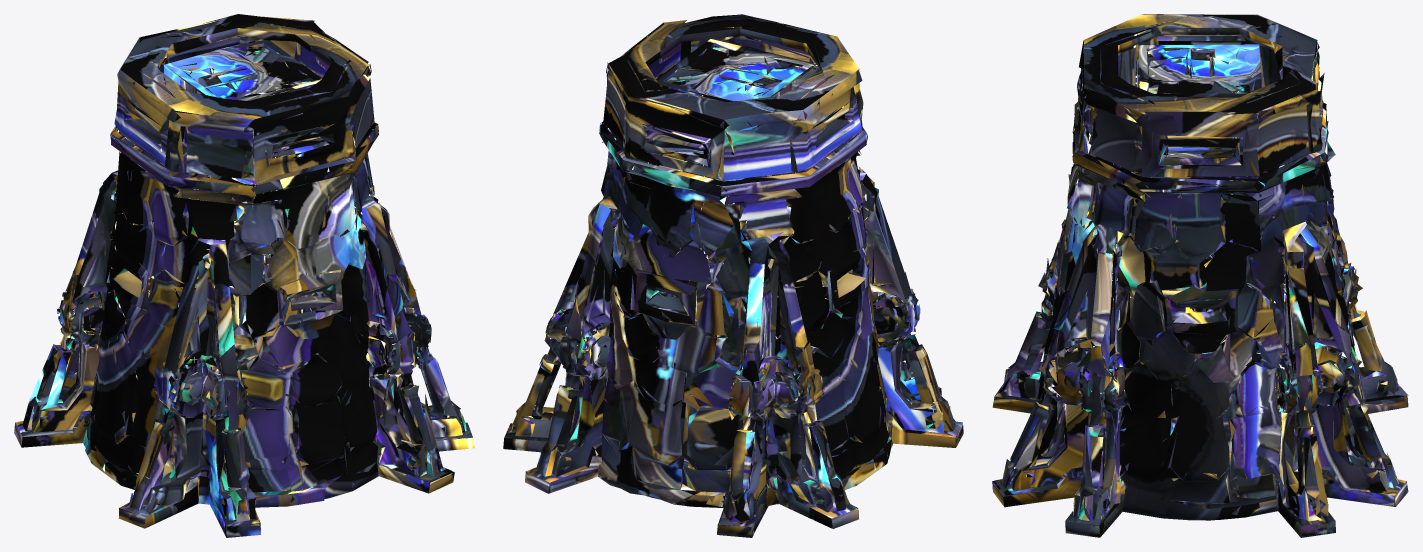
The model's file is tower_barricade_3d_LOD1.fbx.
3 views of the same model, side by side, from view 1: azimuth 30°, elevation 25°; view 2: azimuth 150°, elevation 25°; view 3: azimuth 270°, elevation 25° (orthographic). The views are drawn at different scales.
Visible parts, largest first — view 1: Mesh1.0; view 2: Mesh1.0; view 3: Mesh1.0.
Boxes of the visible parts, x1,y1,x2,y2 form: Mesh1.0: (14, 14, 474, 537); Mesh1.0: (503, 14, 963, 537); Mesh1.0: (992, 14, 1408, 537).
Bounding box in the file's own units: 120 × 126 × 121.
